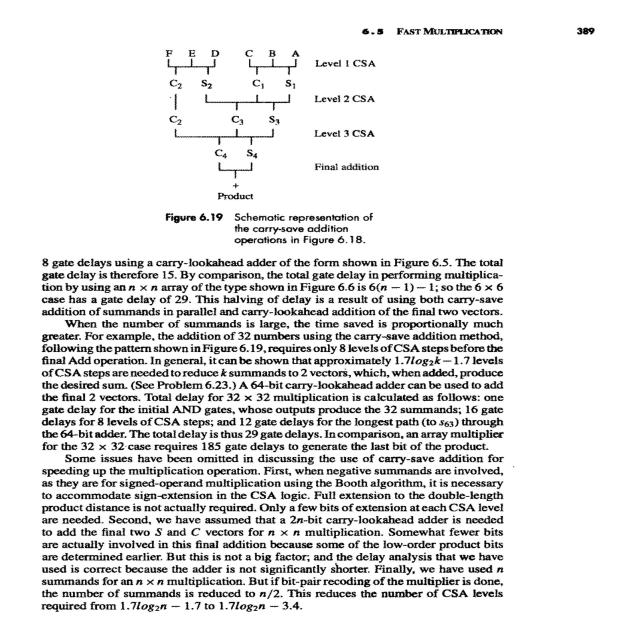diagram: (88, 41, 467, 254), (639, 281, 640, 302)
